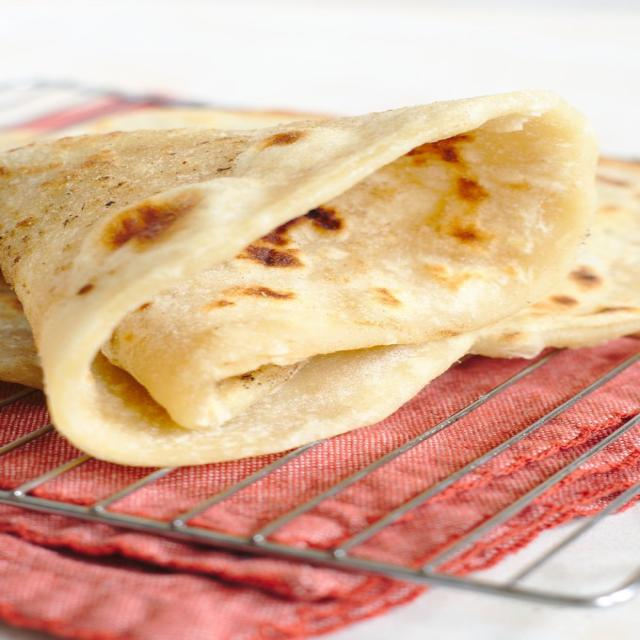CHAPATHI: (0, 97, 639, 469)
